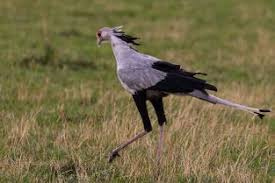Walking: (90, 17, 275, 179)
